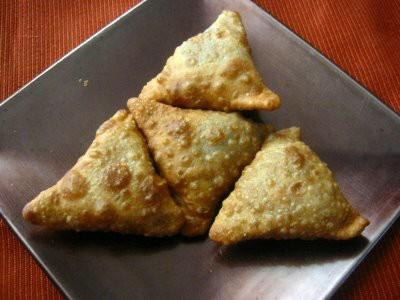Samosa: (20, 108, 188, 236), (126, 94, 275, 231), (206, 126, 371, 247), (133, 9, 284, 111)
